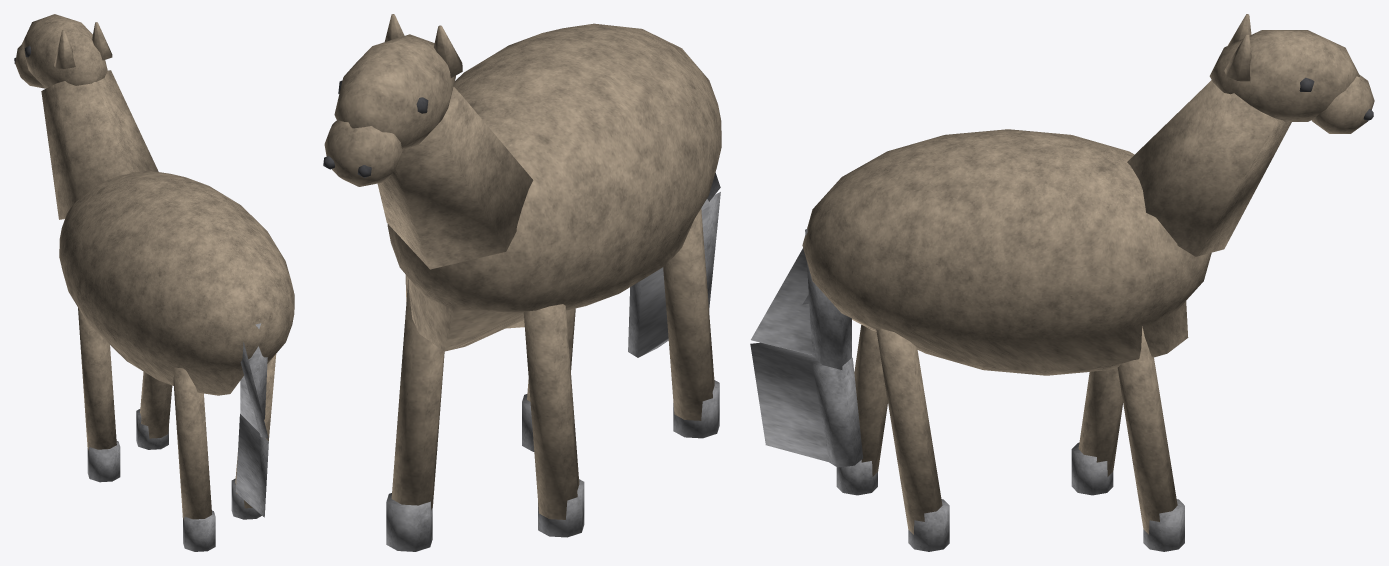
File: mob_kuda_walk4.obj
The picture shows the model from 3 angles, left to right: view 1: azimuth 30°, elevation 25°; view 2: azimuth 150°, elevation 25°; view 3: azimuth 270°, elevation 25°; orthographic projection. The views are drawn at different scales.
Parts seen in each view (by area): view 1: mob_kuda; view 2: mob_kuda; view 3: mob_kuda.
Part boxes in pixels (left/top/right/bottom): mob_kuda: left=14, top=14, right=294, bottom=551; mob_kuda: left=323, top=14, right=721, bottom=551; mob_kuda: left=750, top=14, right=1374, bottom=551.
Bounding box in the file's own units: 0.8439 × 1.91 × 2.18.
Materials: 1 (1 with a texture image).
